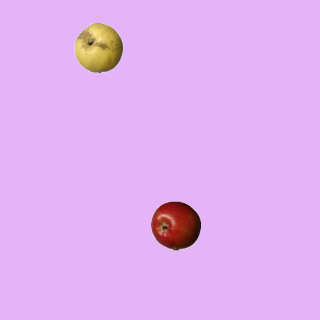Apple Braeburn: (150, 200, 200, 250)
Apple Golden 1: (73, 22, 123, 72)
